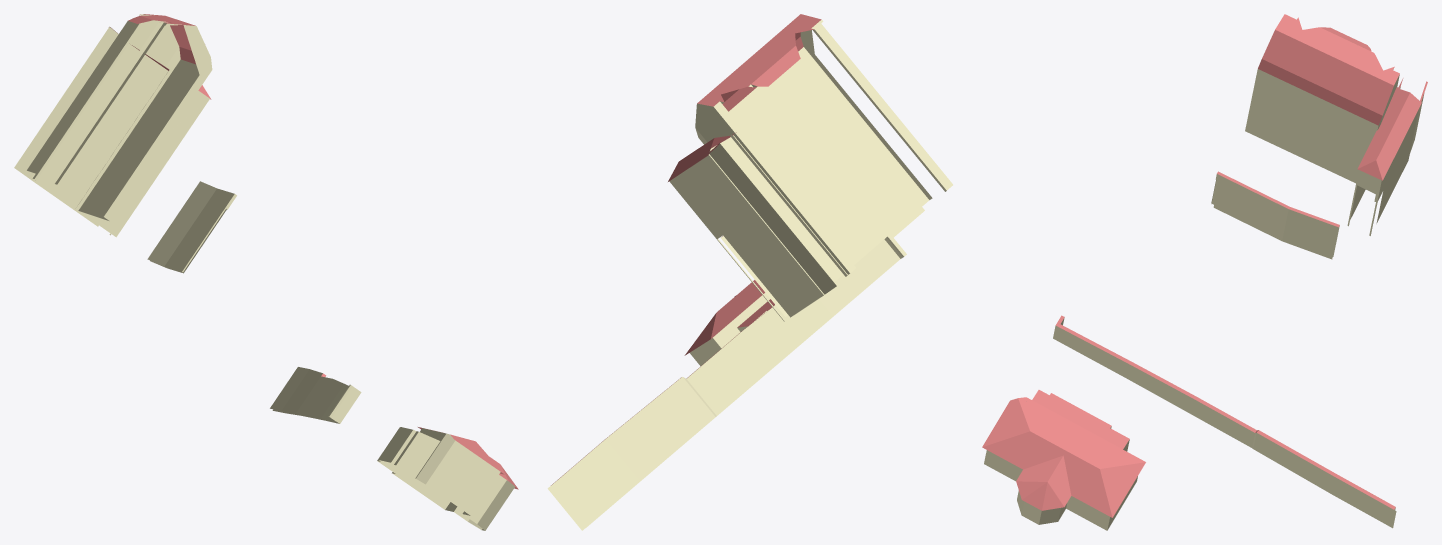
The model's file is tile_026.glb.
3 renders of one model, left to right at view 1: azimuth 30°, elevation 25°; view 2: azimuth 150°, elevation 25°; view 3: azimuth 270°, elevation 25°, orthographic. The views are drawn at different scales.
Visible parts, largest first — view 1: Batched_Building_ID_585E3A7B-3FC8-4DCD-8649-4EF8B5144615; view 2: Batched_Building_ID_585E3A7B-3FC8-4DCD-8649-4EF8B5144615; view 3: Batched_Building_ID_585E3A7B-3FC8-4DCD-8649-4EF8B5144615.
Part boxes in pixels (x1,y1,x2,y2): Batched_Building_ID_585E3A7B-3FC8-4DCD-8649-4EF8B5144615: (14, 14, 518, 530); Batched_Building_ID_585E3A7B-3FC8-4DCD-8649-4EF8B5144615: (547, 14, 952, 530); Batched_Building_ID_585E3A7B-3FC8-4DCD-8649-4EF8B5144615: (982, 14, 1427, 530).
Bounding box in the file's own units: 66.32 × 88.95 × 81.73.
